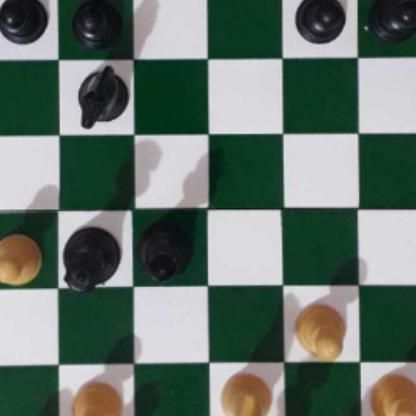black-bishop: (134, 216, 192, 280)
black-knight: (74, 63, 126, 124)
black-pawn: (71, 0, 120, 47), (293, 0, 345, 41), (0, 0, 44, 44), (370, 0, 416, 39)
black-queen: (60, 225, 118, 290)
white-knight: (219, 372, 274, 416)
white-pawn: (290, 299, 345, 359), (0, 227, 44, 285), (367, 369, 416, 416), (69, 378, 123, 416)
